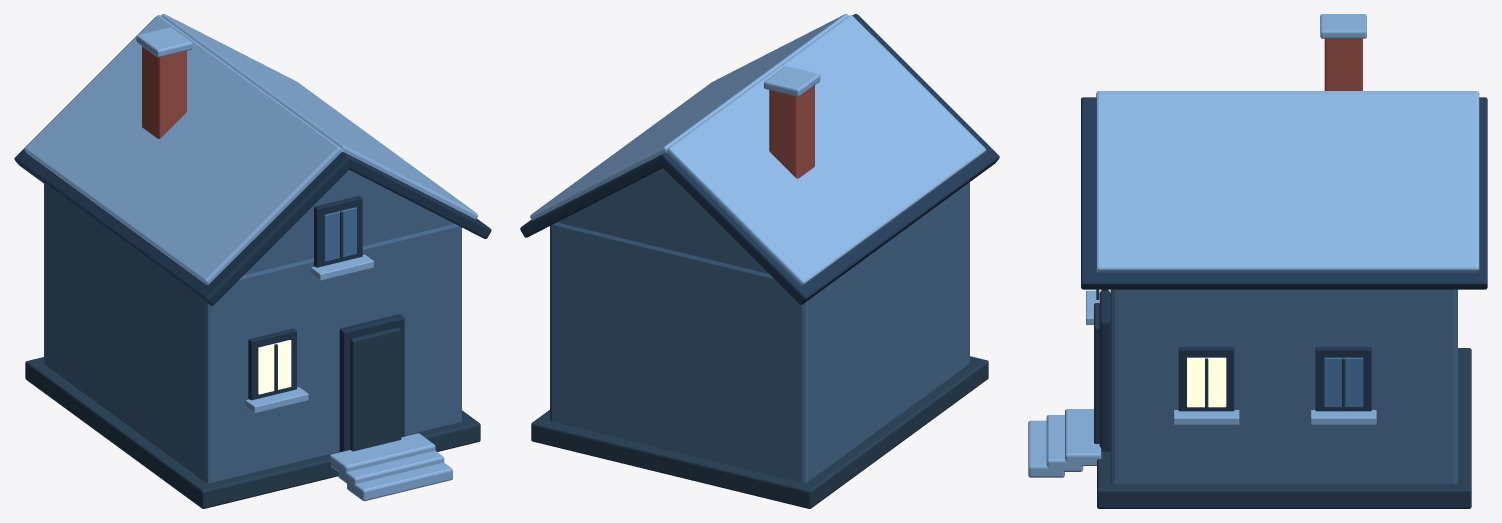
The model's file is winter_house.glb.
3 renders of one model, left to right at view 1: azimuth 30°, elevation 25°; view 2: azimuth 150°, elevation 25°; view 3: azimuth 270°, elevation 25°, orthographic. The views are drawn at different scales.
Parts seen in each view (by area): view 1: winter_house; view 2: winter_house; view 3: winter_house.
Part boxes in pixels (x1,y1,x2,y2): winter_house: (14,14,491,508); winter_house: (520,14,999,508); winter_house: (1028,14,1487,508).
Bounding box in the file's own units: 3.86 × 4.65 × 5.02.
